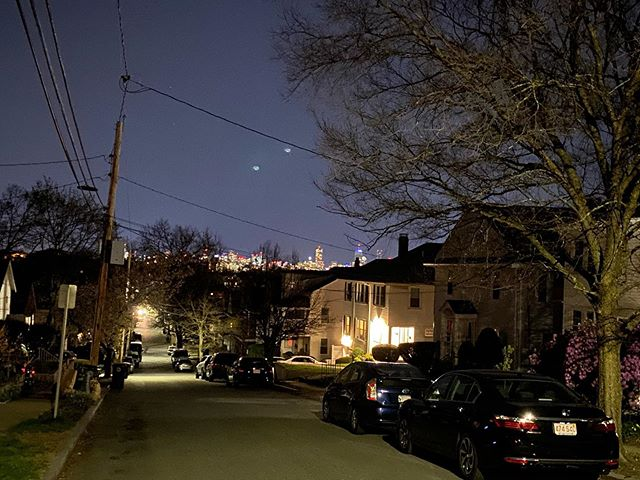building: (433, 199, 639, 375), (299, 238, 439, 372)
car: (403, 374, 614, 478), (314, 360, 421, 435), (225, 354, 276, 388)
sky: (1, 1, 370, 235)
street: (59, 360, 411, 480)
tree: (288, 1, 640, 425)
